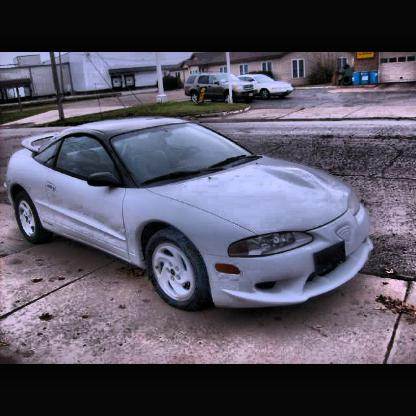Eagle Talon Hatchback 1998: (7, 120, 373, 311)
